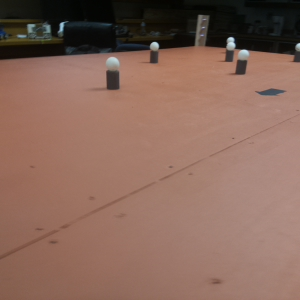corner: (195, 15, 209, 45)
obstacle: (107, 56, 122, 89), (236, 50, 248, 76), (150, 41, 161, 63), (227, 43, 236, 62), (293, 43, 300, 63), (228, 36, 235, 43)
start: (256, 85, 286, 101)
